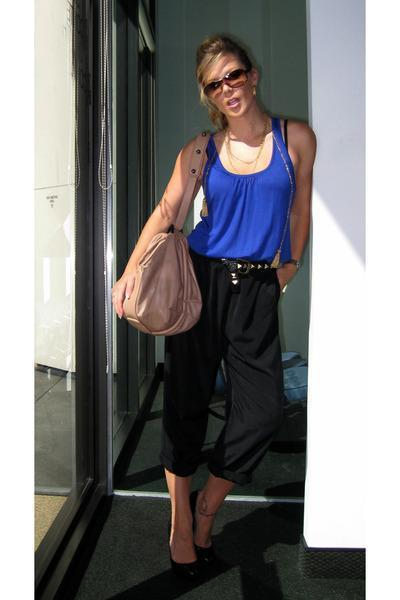bag: (112, 228, 201, 338)
pants: (156, 276, 292, 480)
shirt: (187, 114, 295, 267)
shoe: (167, 546, 222, 582)
sunglass: (202, 80, 222, 96)
